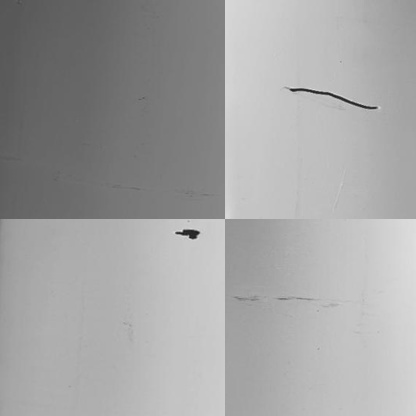fengxi: (288, 83, 379, 115)
kongdong: (174, 225, 203, 241)
